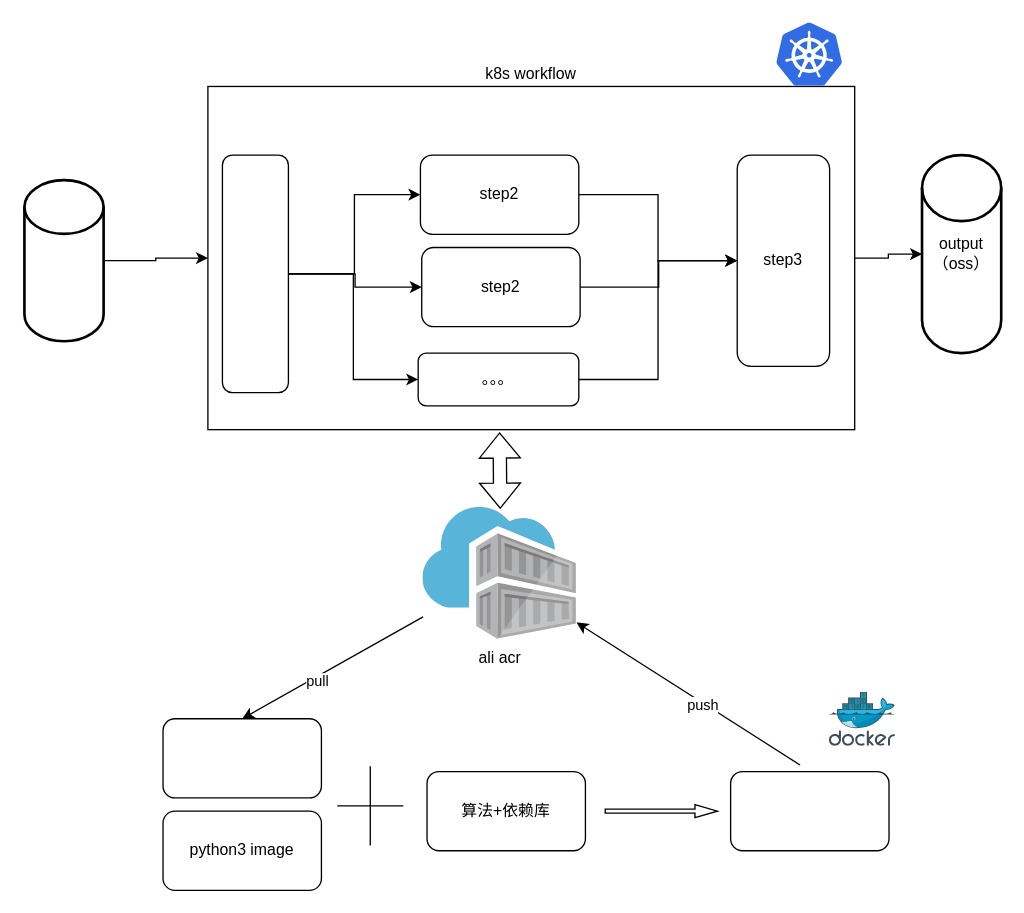
Some shapes in this 1024 by 913 pixel diagram are drawn without their labels. The centre of each missing label's shape, as x and y in pixels:
"input （oss）" goes at pixel 63 260.
"python2 image" goes at pixel 241 757.
"step1" goes at pixel 254 273.
"Target Image" goes at pixel 809 810.
